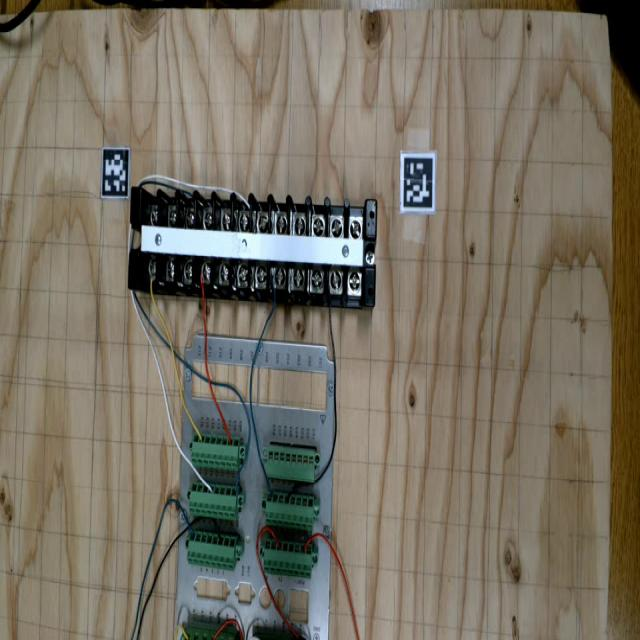Phillips_Block: (124, 182, 382, 307)
Terminal_2: (186, 530, 239, 571), (261, 538, 315, 578), (263, 491, 316, 531), (188, 481, 241, 520), (190, 434, 241, 471)
